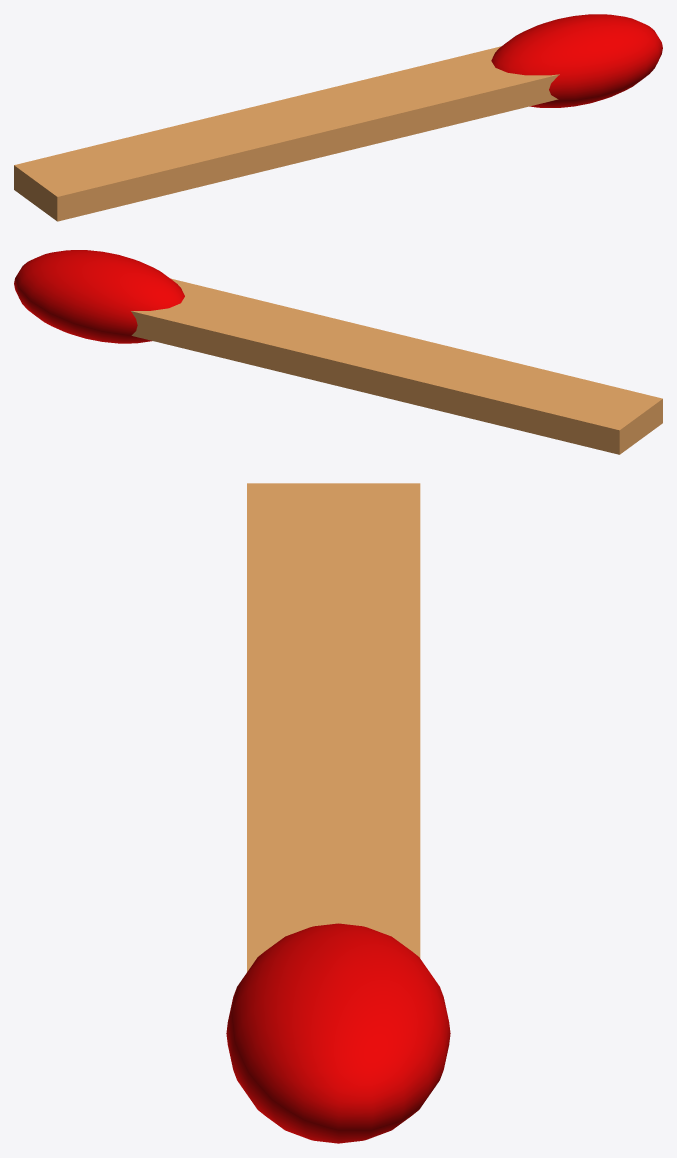
Rendered from Match final.fbx.
The picture shows the model from 3 angles, top to bottom: view 1: azimuth 30°, elevation 25°; view 2: azimuth 150°, elevation 25°; view 3: azimuth 270°, elevation 25°; orthographic projection. The views are drawn at different scales.
Visible parts, largest first — view 1: pCube2; view 2: pCube2; view 3: pCube2.
Part boxes in pixels (box(x1,y1,x2,y2)): pCube2: box(14, 14, 662, 221); pCube2: box(14, 250, 662, 454); pCube2: box(226, 483, 450, 1143).
Bounding box in the file's own units: 7.16 × 0.8131 × 1.12.
